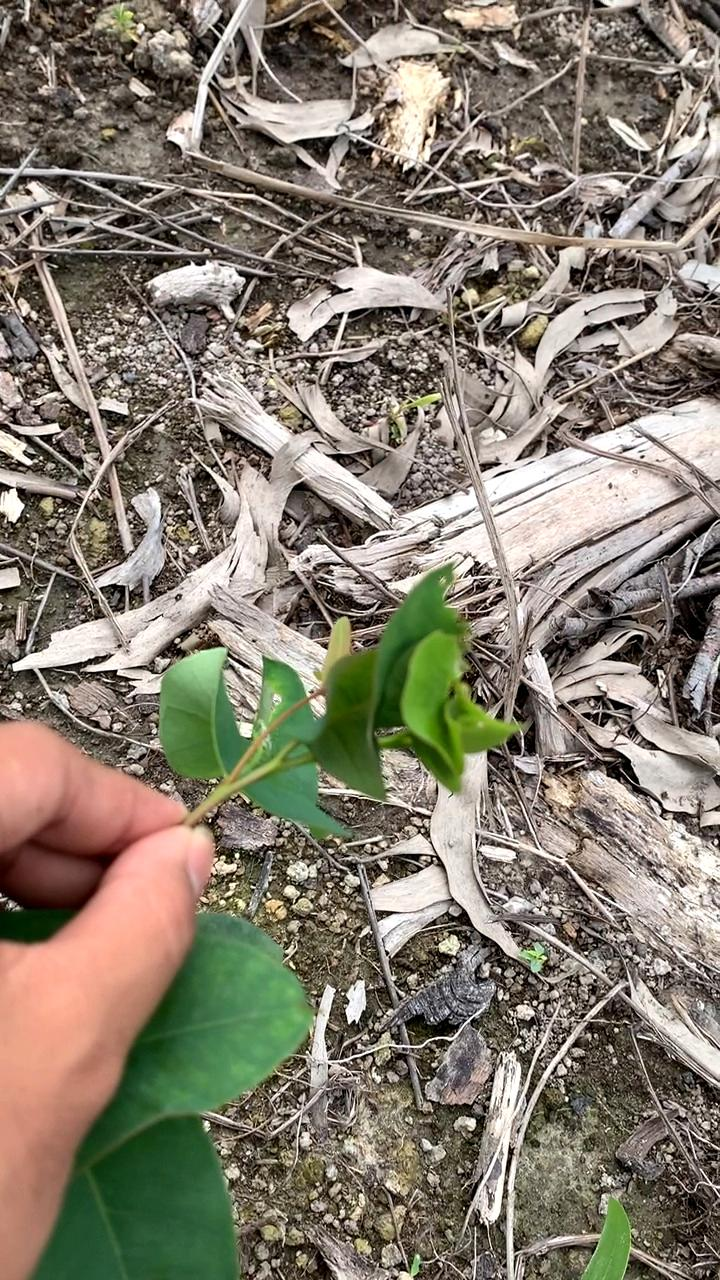Leaf Roller - Leaf: (316, 570, 515, 805)
